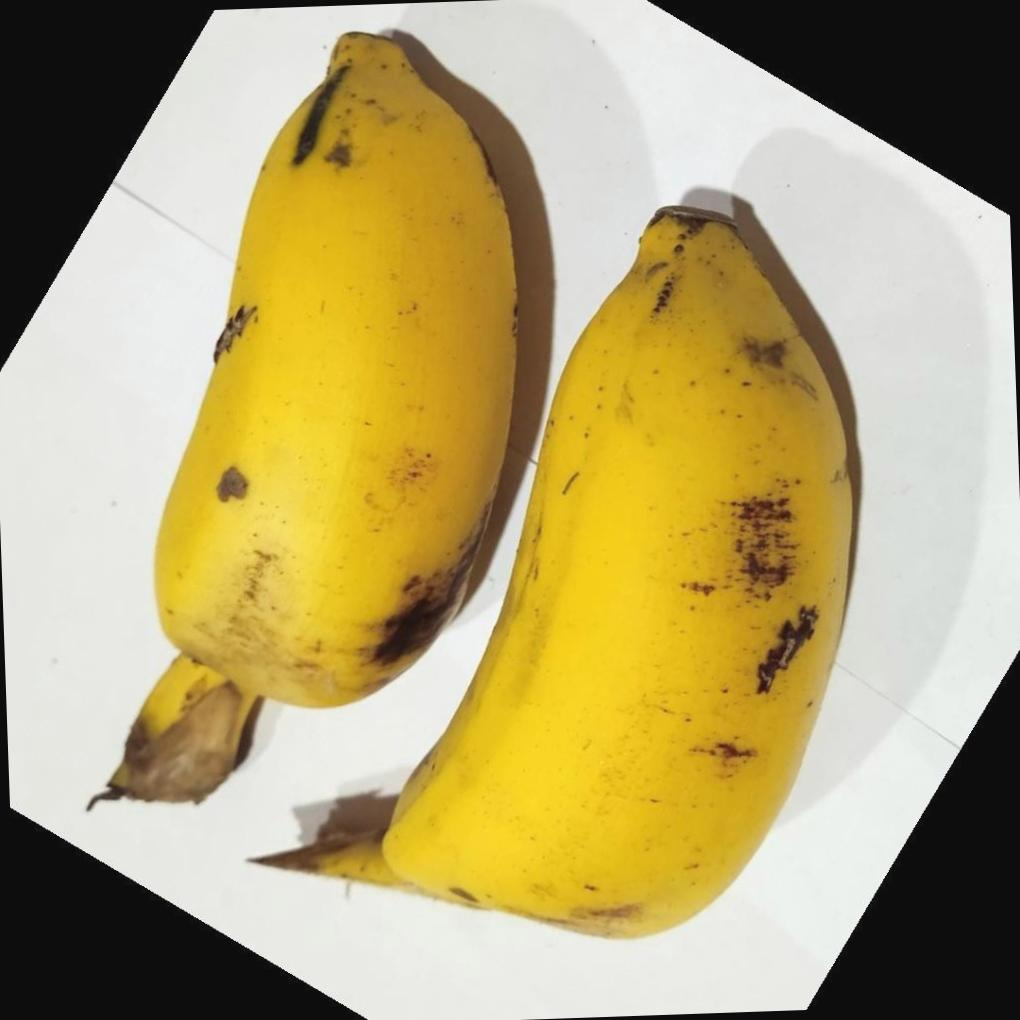Banana Ripe: (333, 120, 905, 1020), (118, 21, 550, 857)
